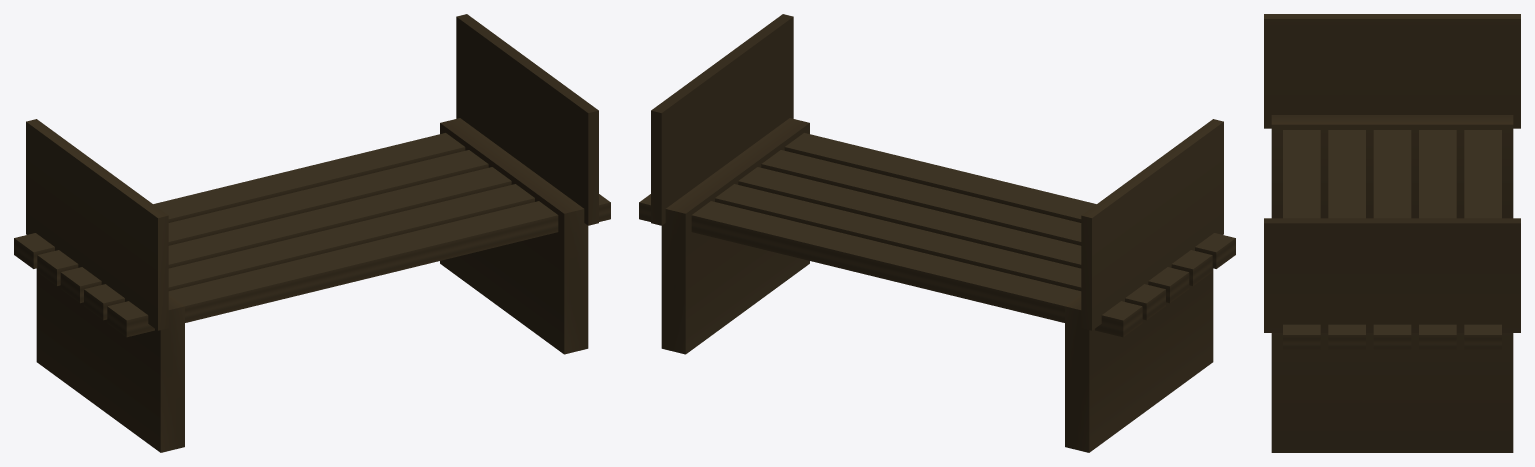
Rendered from prop_timber_stack_a.glb.
3 views of the same model, side by side, from view 1: azimuth 30°, elevation 25°; view 2: azimuth 150°, elevation 25°; view 3: azimuth 270°, elevation 25° (orthographic). The views are drawn at different scales.
Visible parts, largest first — view 1: prop_timber_stack_a; view 2: prop_timber_stack_a; view 3: prop_timber_stack_a.
Boxes of the visible parts, box(x1,y1,x2,y2) form: prop_timber_stack_a: box(14, 14, 610, 452); prop_timber_stack_a: box(639, 14, 1235, 452); prop_timber_stack_a: box(1264, 14, 1520, 452).
Size of the model in its own units: 3.6 by 1.7 by 1.7.
Materials: 1 (1 with a texture image).
